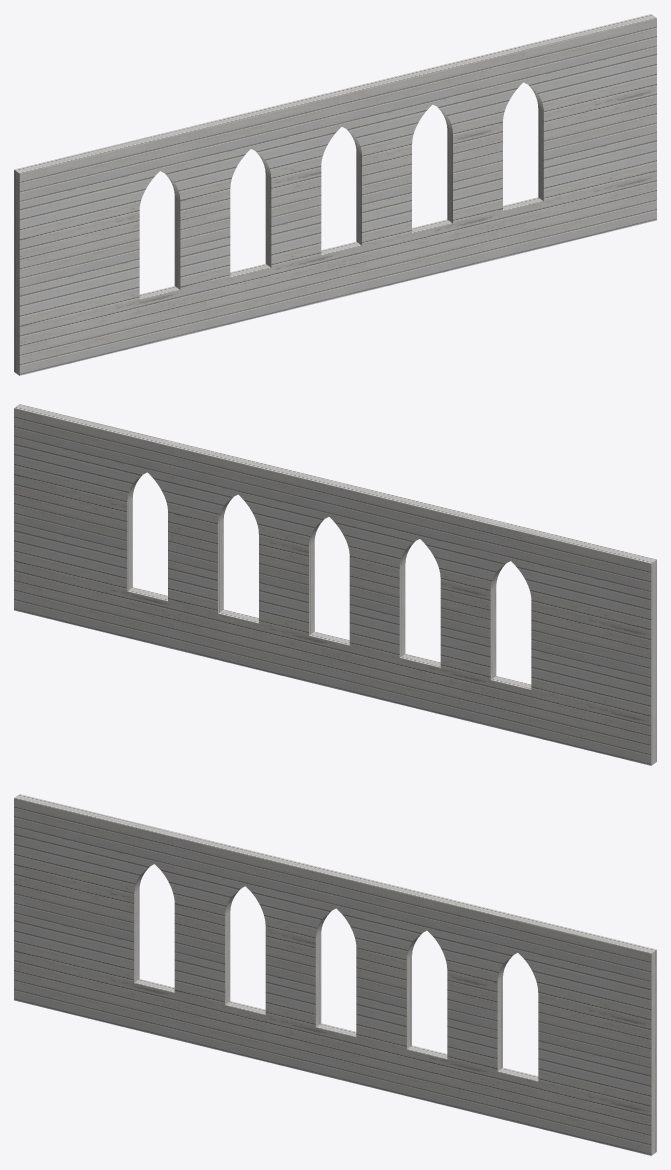
File: Wall 1.FBX
3 views of the same model, one above another, from view 1: azimuth 30°, elevation 25°; view 2: azimuth 150°, elevation 25°; view 3: azimuth 330°, elevation 25° (orthographic).
Visible parts, largest first — view 1: Wall 1; view 2: Wall 1; view 3: Wall 1.
Part boxes in pixels (x1,y1,x2,y2): Wall 1: [14, 14, 656, 375]; Wall 1: [14, 404, 656, 765]; Wall 1: [14, 794, 656, 1155].
Size of the model in its own units: 1315 by 399 by 19.94.
Materials: 1 (1 with a texture image).
